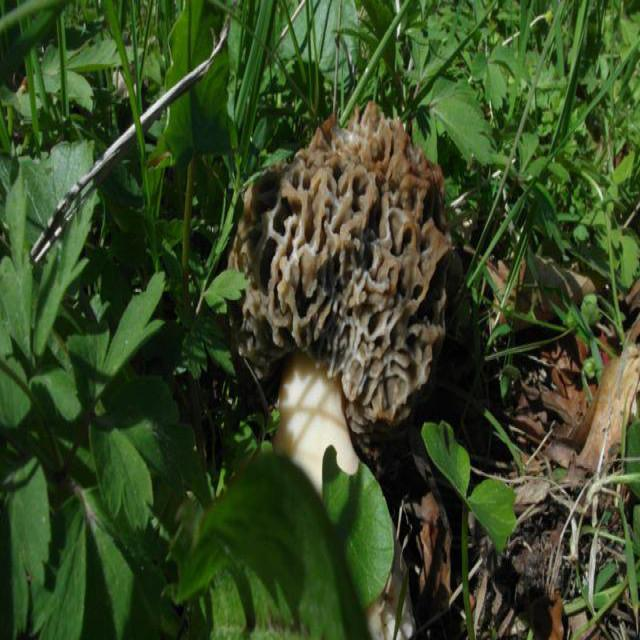Morchella esculenta: (234, 104, 450, 490)
